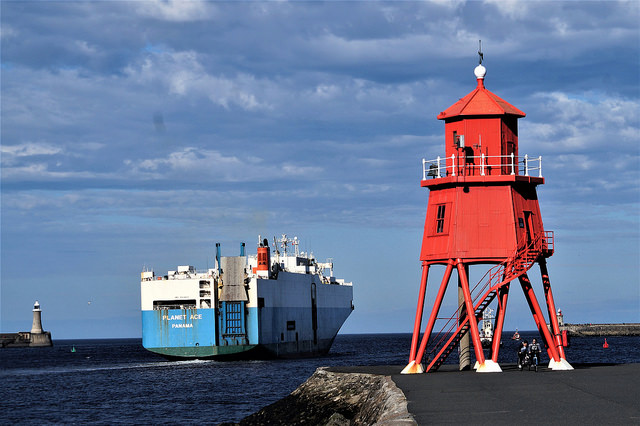PCC: (137, 236, 354, 364)
